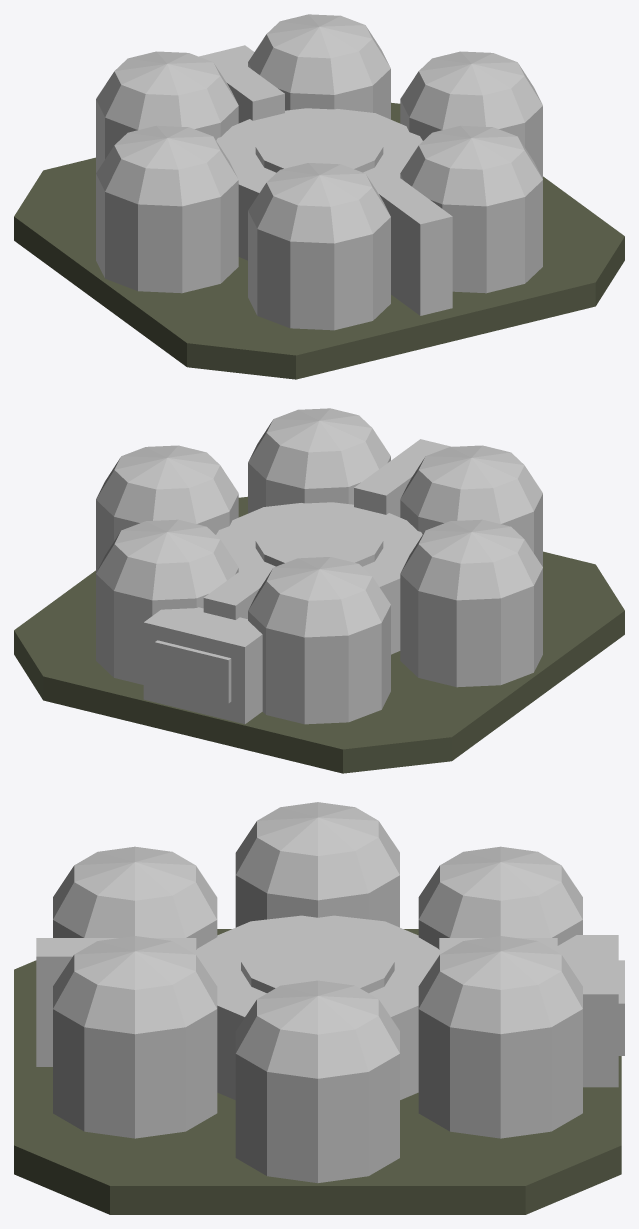
File: mech_stabilizer.obj
3 renders of one model, top to bottom at view 1: azimuth 30°, elevation 25°; view 2: azimuth 150°, elevation 25°; view 3: azimuth 270°, elevation 25°, orthographic. The views are drawn at different scales.
Parts seen in each view (by area): view 1: mech_stabilizer_0, mech_stabilizer_5, mech_stabilizer_4, mech_stabilizer_6, mech_stabilizer_2, mech_stabilizer_1, mech_stabilizer_3, mech_stabilizer_9, mech_stabilizer_7, mech_stabilizer_8, mech_stabilizer_10, mech_stabilizer_11; view 2: mech_stabilizer_0, mech_stabilizer_4, mech_stabilizer_3, mech_stabilizer_2, mech_stabilizer_6, mech_stabilizer_1, mech_stabilizer_5, mech_stabilizer_11, mech_stabilizer_7, mech_stabilizer_8, mech_stabilizer_12, mech_stabilizer_9 (+1 smaller); view 3: mech_stabilizer_0, mech_stabilizer_2, mech_stabilizer_6, mech_stabilizer_1, mech_stabilizer_4, mech_stabilizer_3, mech_stabilizer_5, mech_stabilizer_7, mech_stabilizer_8, mech_stabilizer_11, mech_stabilizer_9, mech_stabilizer_12.
Part boxes in pixels (left/top/right/bottom): mech_stabilizer_0: left=14, top=102, right=624, bottom=379; mech_stabilizer_5: left=248, top=163, right=390, bottom=330; mech_stabilizer_4: left=96, top=125, right=238, bottom=293; mech_stabilizer_6: left=400, top=125, right=542, bottom=293; mech_stabilizer_2: left=248, top=14, right=390, bottom=119; mech_stabilizer_1: left=400, top=51, right=542, bottom=178; mech_stabilizer_3: left=96, top=51, right=238, bottom=172; mech_stabilizer_9: left=364, top=168, right=452, bottom=315; mech_stabilizer_7: left=216, top=108, right=422, bottom=260; mech_stabilizer_8: left=255, top=120, right=383, bottom=172; mech_stabilizer_10: left=214, top=57, right=284, bottom=123; mech_stabilizer_11: left=199, top=45, right=254, bottom=66; mech_stabilizer_0: left=14, top=496, right=624, bottom=773; mech_stabilizer_4: left=400, top=519, right=542, bottom=687; mech_stabilizer_3: left=248, top=557, right=390, bottom=724; mech_stabilizer_2: left=96, top=519, right=238, bottom=684; mech_stabilizer_6: left=248, top=408, right=390, bottom=513; mech_stabilizer_1: left=96, top=445, right=238, bottom=572; mech_stabilizer_5: left=400, top=445, right=542, bottom=566; mech_stabilizer_11: left=143, top=607, right=262, bottom=724; mech_stabilizer_7: left=216, top=502, right=422, bottom=654; mech_stabilizer_8: left=255, top=514, right=383, bottom=566; mech_stabilizer_12: left=155, top=640, right=231, bottom=703; mech_stabilizer_9: left=354, top=439, right=451, bottom=517; mech_stabilizer_0: left=14, top=929, right=621, bottom=1214; mech_stabilizer_2: left=418, top=936, right=582, bottom=1138; mech_stabilizer_6: left=53, top=936, right=217, bottom=1138; mech_stabilizer_1: left=235, top=980, right=399, bottom=1183; mech_stabilizer_4: left=235, top=802, right=399, bottom=927; mech_stabilizer_3: left=418, top=846, right=582, bottom=949; mech_stabilizer_5: left=53, top=846, right=217, bottom=949; mech_stabilizer_7: left=196, top=915, right=439, bottom=1099; mech_stabilizer_8: left=241, top=929, right=394, bottom=993; mech_stabilizer_11: left=557, top=935, right=618, bottom=1087; mech_stabilizer_9: left=36, top=938, right=196, bottom=1066; mech_stabilizer_12: left=618, top=960, right=624, bottom=1055.
Bounding box in the file's own units: 1.9 × 0.62 × 1.91.
